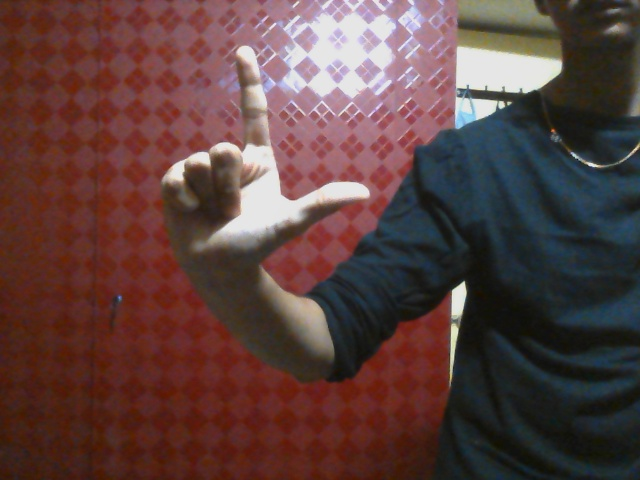L: (161, 44, 370, 261)
